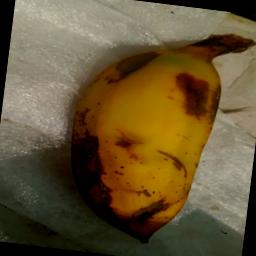Banana Overripe: (57, 5, 256, 256)
